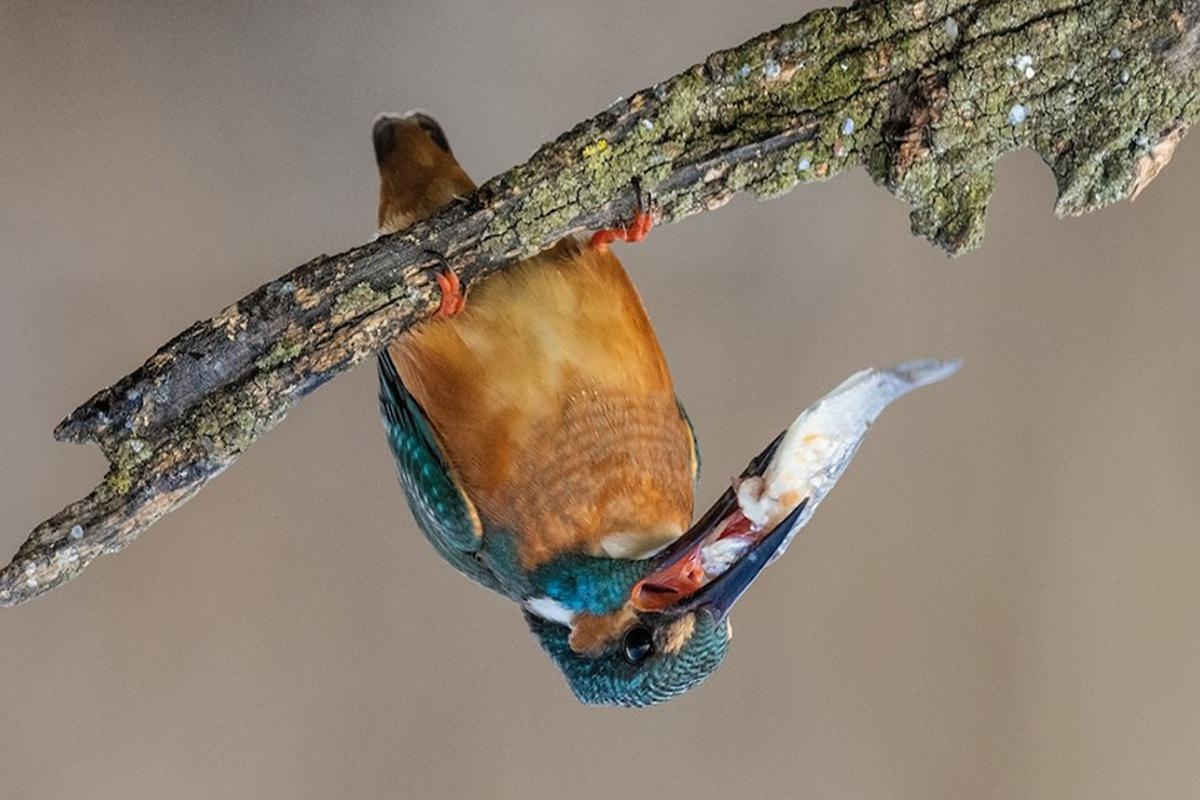kingfisher: (352, 96, 921, 717)
